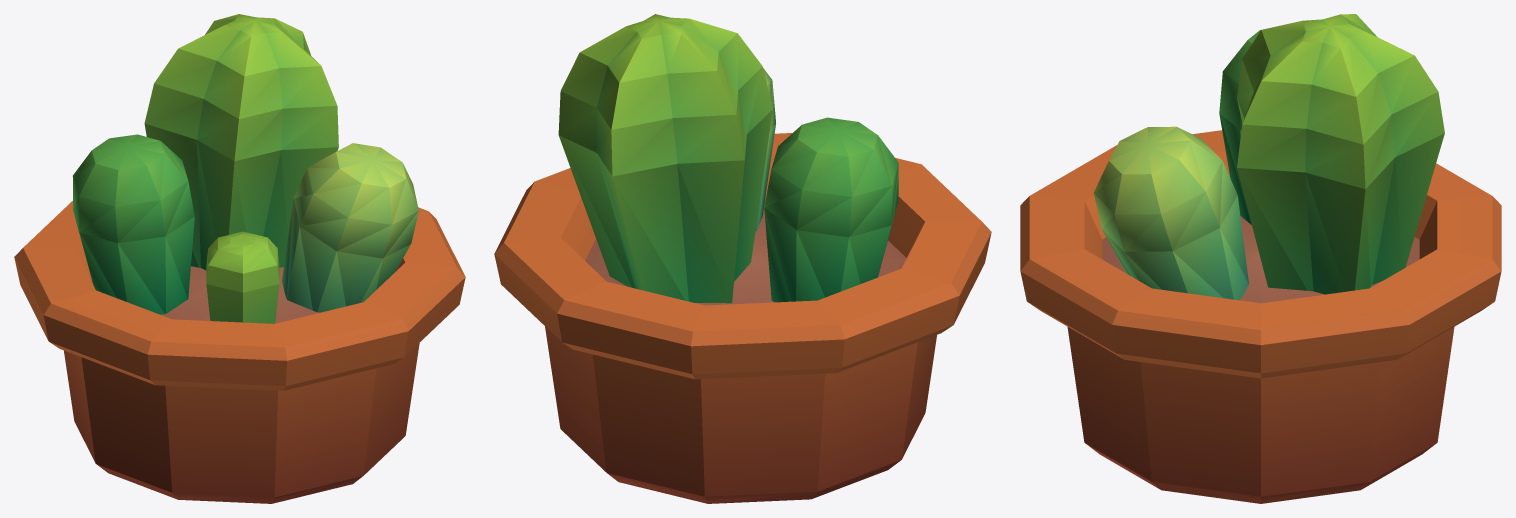
The model's file is home_cactus_medium_a.fbx.
3 views of the same model, side by side, from view 1: azimuth 30°, elevation 25°; view 2: azimuth 150°, elevation 25°; view 3: azimuth 270°, elevation 25° (orthographic). The views are drawn at different scales.
Parts seen in each view (by area): view 1: home_cactus_medium_a_LOD0; view 2: home_cactus_medium_a_LOD0; view 3: home_cactus_medium_a_LOD0.
Boxes of the visible parts, box(x1,y1,x2,y2) form: home_cactus_medium_a_LOD0: box(14, 14, 465, 503); home_cactus_medium_a_LOD0: box(494, 14, 991, 503); home_cactus_medium_a_LOD0: box(1020, 14, 1501, 503).
Size of what is drawn, in the model's own units: 0.5318 by 0.5 by 0.5058.
1 material, 1 textured.
